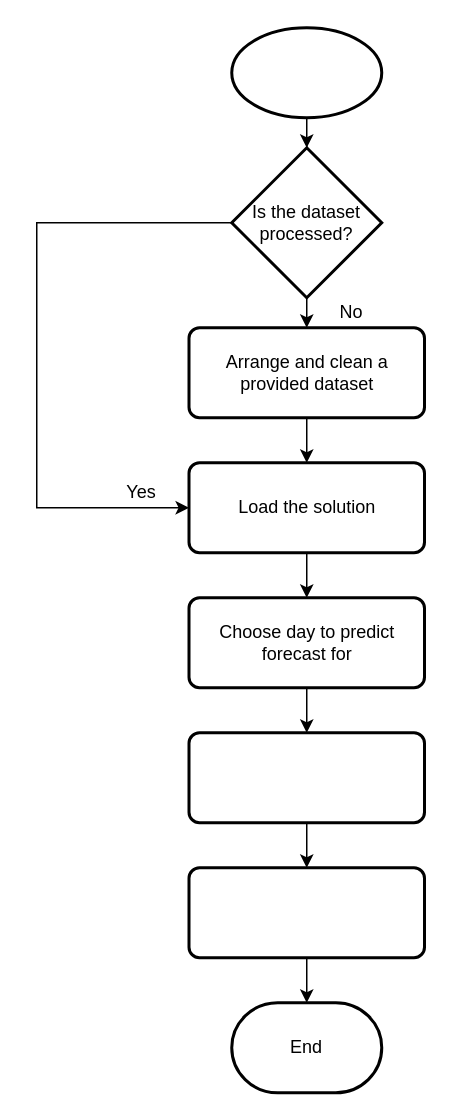
Image size: 452x1119. Some labels were removed from this diagram. Each missing label, with the centre of its shape:
"Export Data" goes at (x=306, y=912).
"Industrial User" goes at (x=306, y=72).
"Visualise day ahead forecast" goes at (x=306, y=777).
